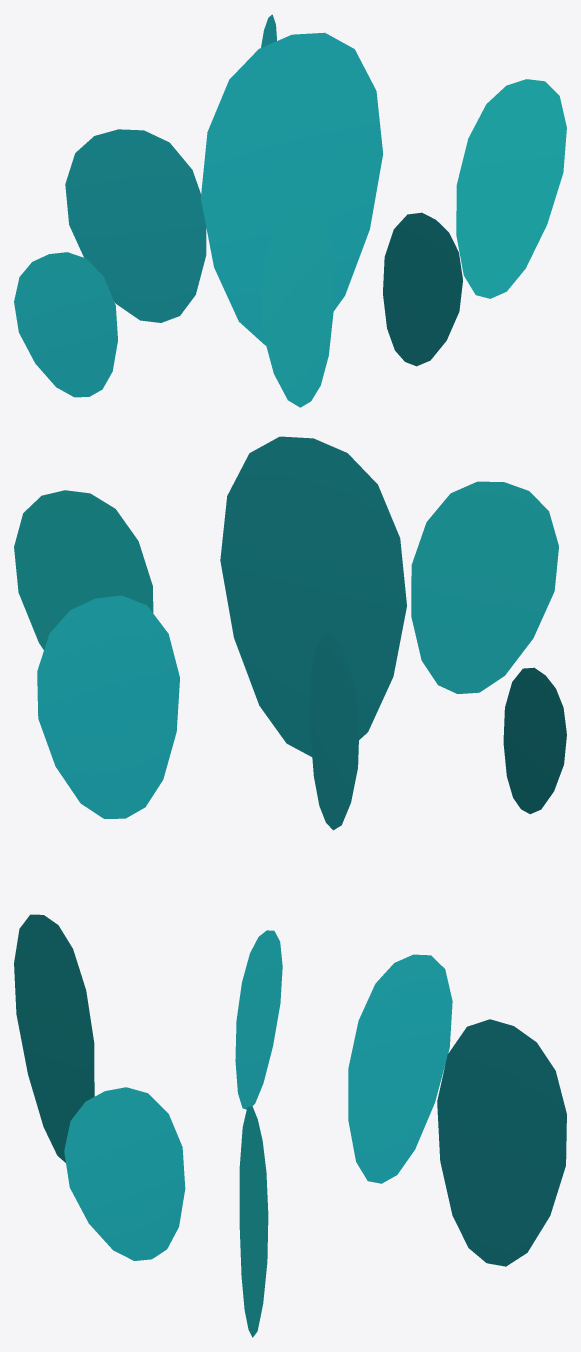
File: SM_Grass_Patch_2.fbx
3 views of the same model, one above another, from view 1: azimuth 30°, elevation 25°; view 2: azimuth 150°, elevation 25°; view 3: azimuth 270°, elevation 25° (orthographic). The views are drawn at different scales.
Visible parts, largest first — view 1: SM_Grass_Patch_2; view 2: SM_Grass_Patch_2; view 3: SM_Grass_Patch_2.
Boxes of the visible parts, x1=… form: SM_Grass_Patch_2: x1=14, y1=14, x2=566, y2=407; SM_Grass_Patch_2: x1=14, y1=436, x2=566, y2=830; SM_Grass_Patch_2: x1=14, y1=914, x2=566, y2=1337.
Size of the model in its own units: 39.9 by 21.94 by 31.17.
